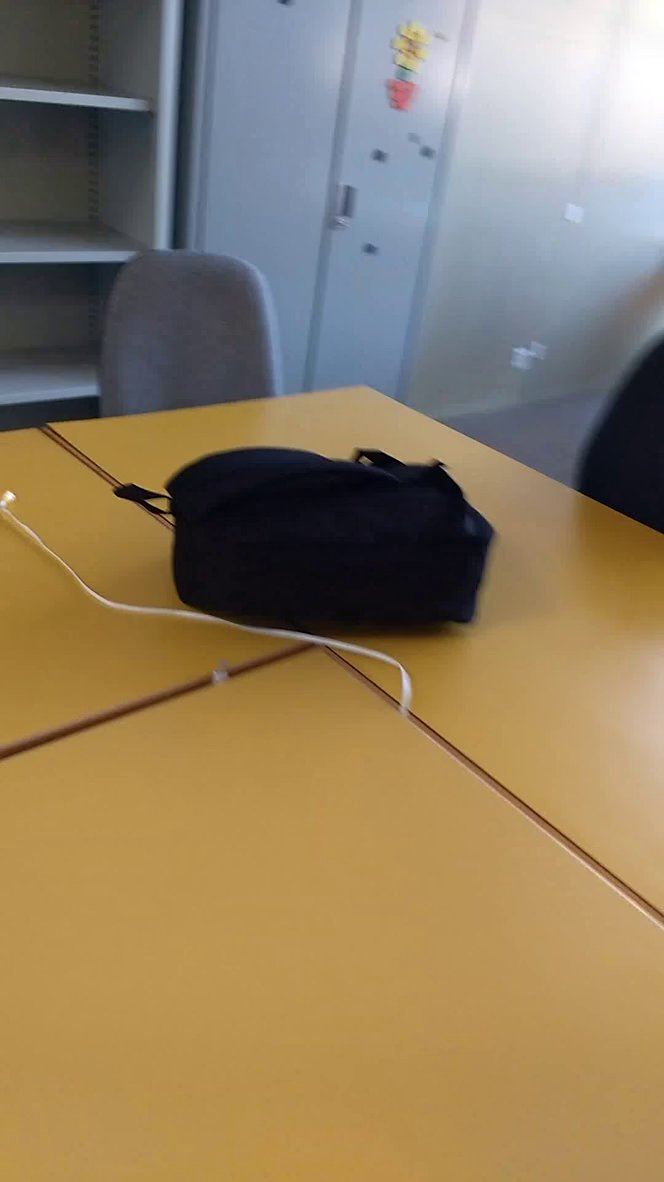bag: (110, 428, 515, 657)
chair: (84, 241, 326, 425)
